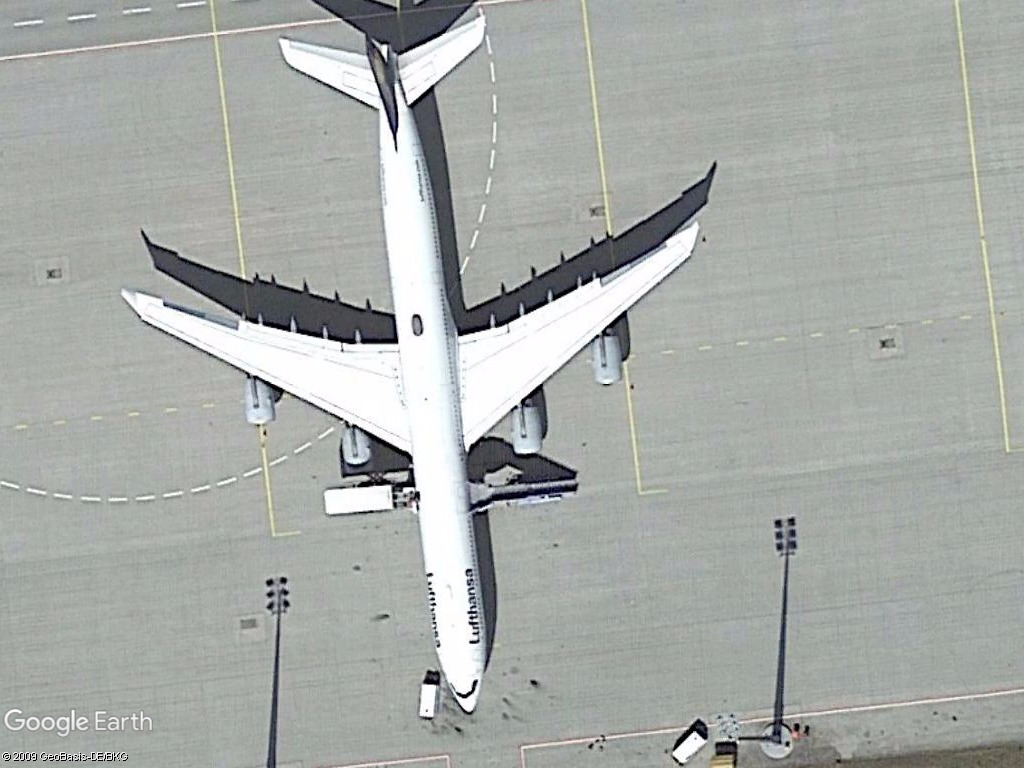airliner: (115, 16, 708, 721)
